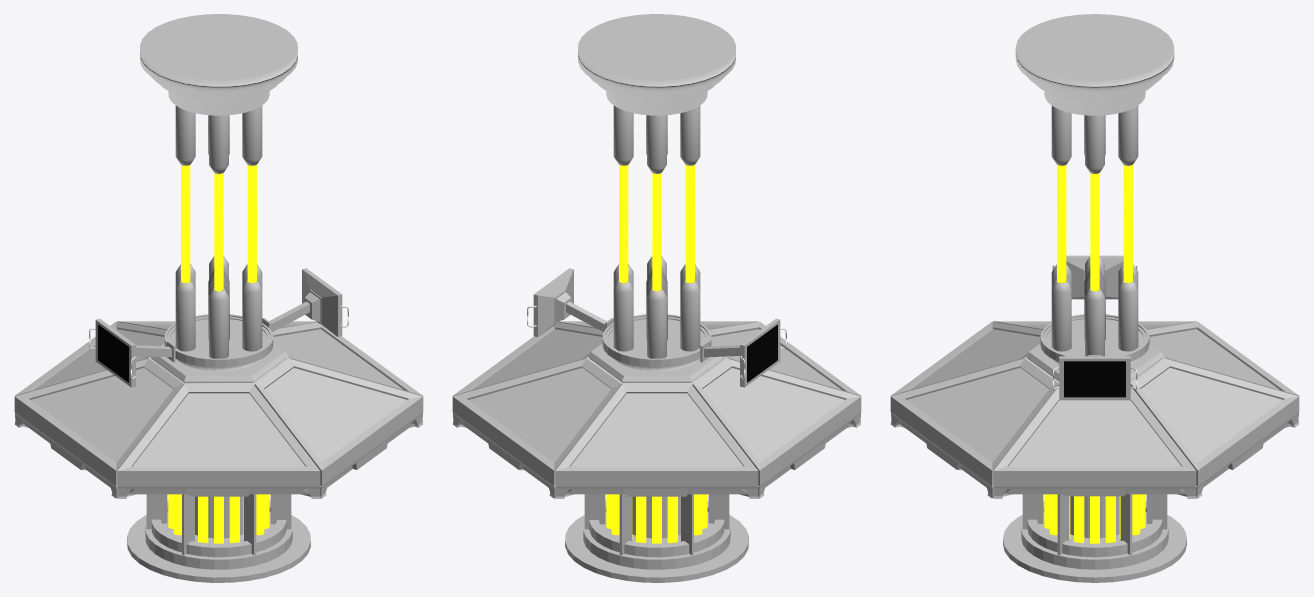
The model's file is DoctorWhoCapaldiBasicConsoleModel.fbx.
3 views of the same model, side by side, from view 1: azimuth 30°, elevation 25°; view 2: azimuth 150°, elevation 25°; view 3: azimuth 270°, elevation 25° (orthographic).
Parts seen in each view (by area): view 1: panels3, panels1, panels2, base top console, base bas console.001, Cube, Cylinder.002, Cylinder.003, Cylinder.001, base dessus console 2, plans dessous console, tubes lumière bas console (+2 smaller); view 2: panels2, panels1, panels3, base top console, base bas console.001, Cube, Cylinder.002, Cylinder.001, Cylinder.003, base dessus console 2, plans dessous console, tubes lumière bas console (+2 smaller); view 3: panels1, panels2, panels3, base top console, base bas console.001, Cube, Cylinder.001, Cylinder.003, Cylinder.002, tubes lumière bas console, plans dessous console, base dessus console 2 (+2 smaller).
Part boxes in pixels (x1,y1,x2,y2): panels3: (117,321,320,498); panels1: (14,322,422,498); panels2: (15,321,423,498); base top console: (140,14,297,115); base bas console.001: (127,500,310,582); Cube: (95,268,342,387); Cylinder.002: (175,106,262,351); Cylinder.003: (175,105,262,351); Cylinder.001: (209,115,228,358); base dessus console 2: (164,314,273,371); plans dessous console: (146,494,291,555); tubes lumière bas console: (168,494,269,543); panels2: (555,321,758,498); panels1: (453,322,861,498); panels3: (452,321,860,498); base top console: (578,14,735,115); base bas console.001: (565,500,748,582); Cube: (533,268,780,387); Cylinder.002: (613,106,700,351); Cylinder.001: (613,105,700,351); Cylinder.003: (647,115,666,358); base dessus console 2: (602,314,711,371); plans dessous console: (584,494,729,555); tubes lumière bas console: (606,494,707,543); panels1: (993,321,1196,498); panels2: (890,321,1298,498); panels3: (891,321,1299,498); base top console: (1015,14,1174,115); base bas console.001: (1003,501,1186,582); Cube: (1059,255,1130,400); Cylinder.001: (1051,105,1138,351); Cylinder.003: (1051,105,1138,351); Cylinder.002: (1085,115,1104,356); tubes lumière bas console: (1044,494,1145,543); plans dessous console: (1022,494,1167,555); base dessus console 2: (1040,314,1149,363).
Size of the model in its own units: 693 by 1071 by 800.
